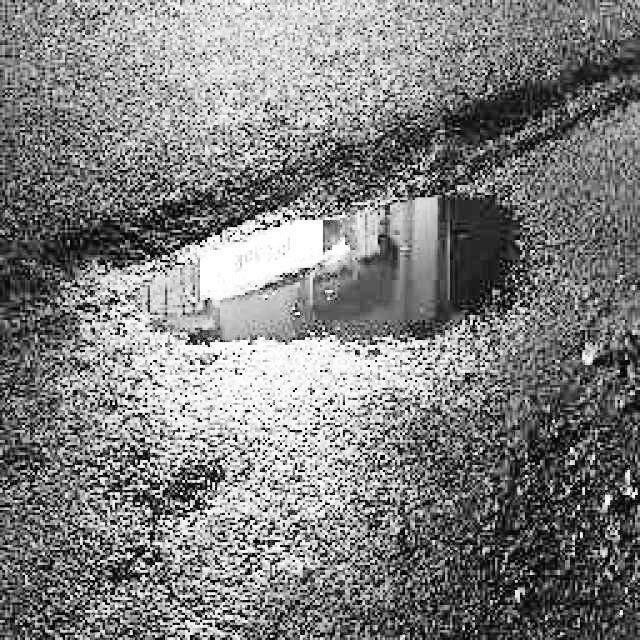Pothole: (98, 145, 557, 360)
